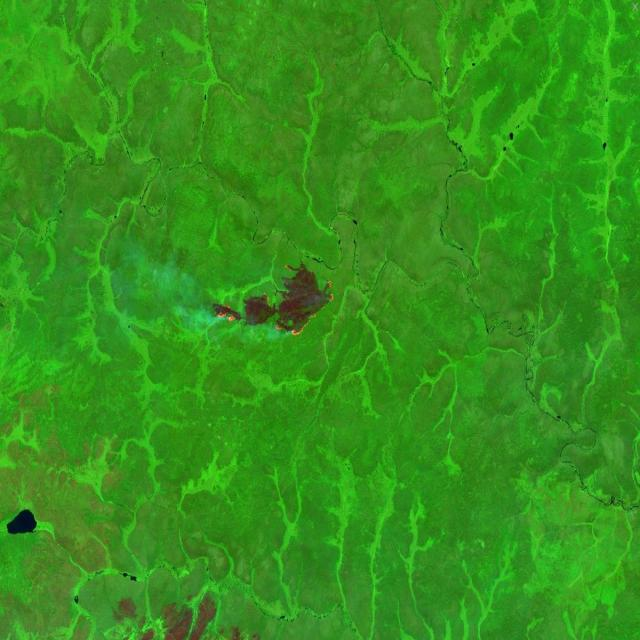fire: (210, 260, 337, 345)
